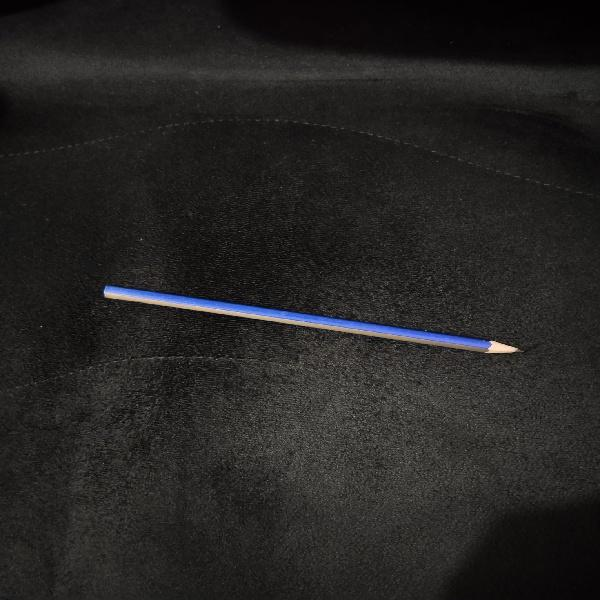pencil: (104, 286, 519, 353)
